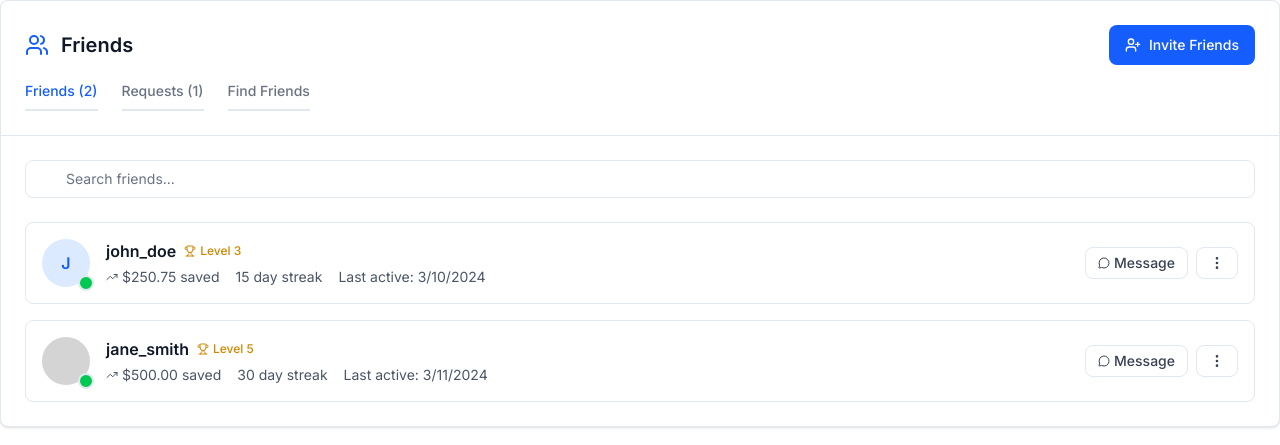
Test case: FriendsList › handles friend search
# Search for a friend
Type "john" into the field with placeholder "Search friends..." at (640, 179), box [25,160,1255,198]
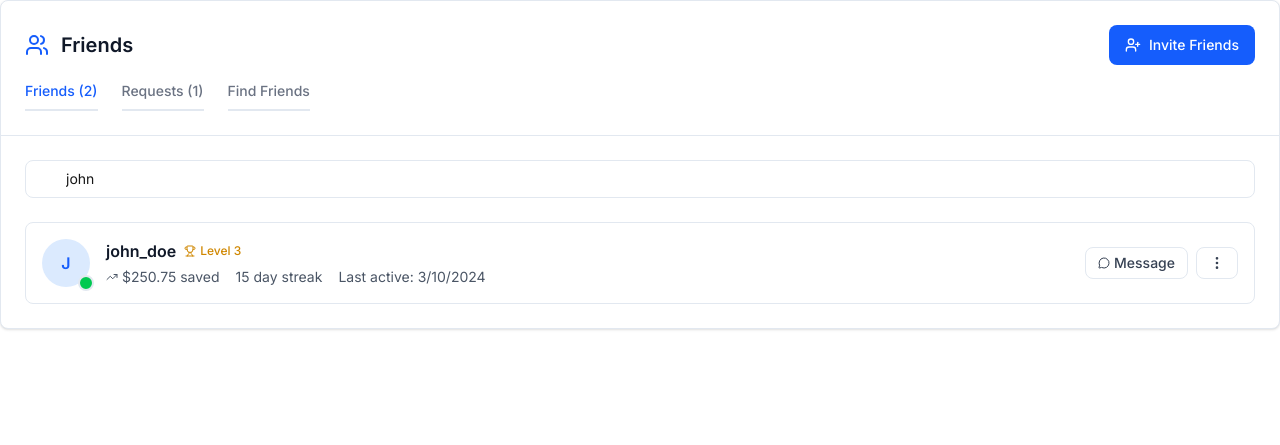
Expected: the heading "john_doe" is shown, [106,239,176,263]
Now the heading "jane_smith" is gone
